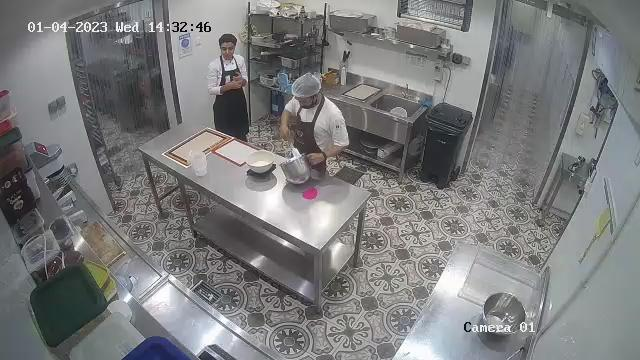apron: (288, 97, 343, 174), (215, 53, 253, 140)
